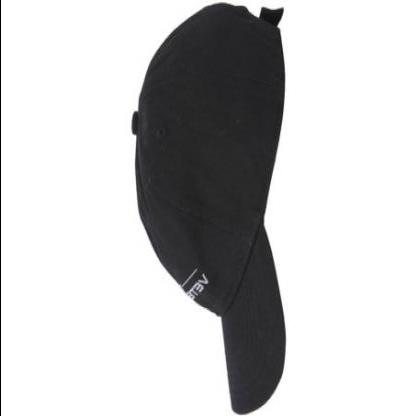cap: (124, 0, 294, 414)
